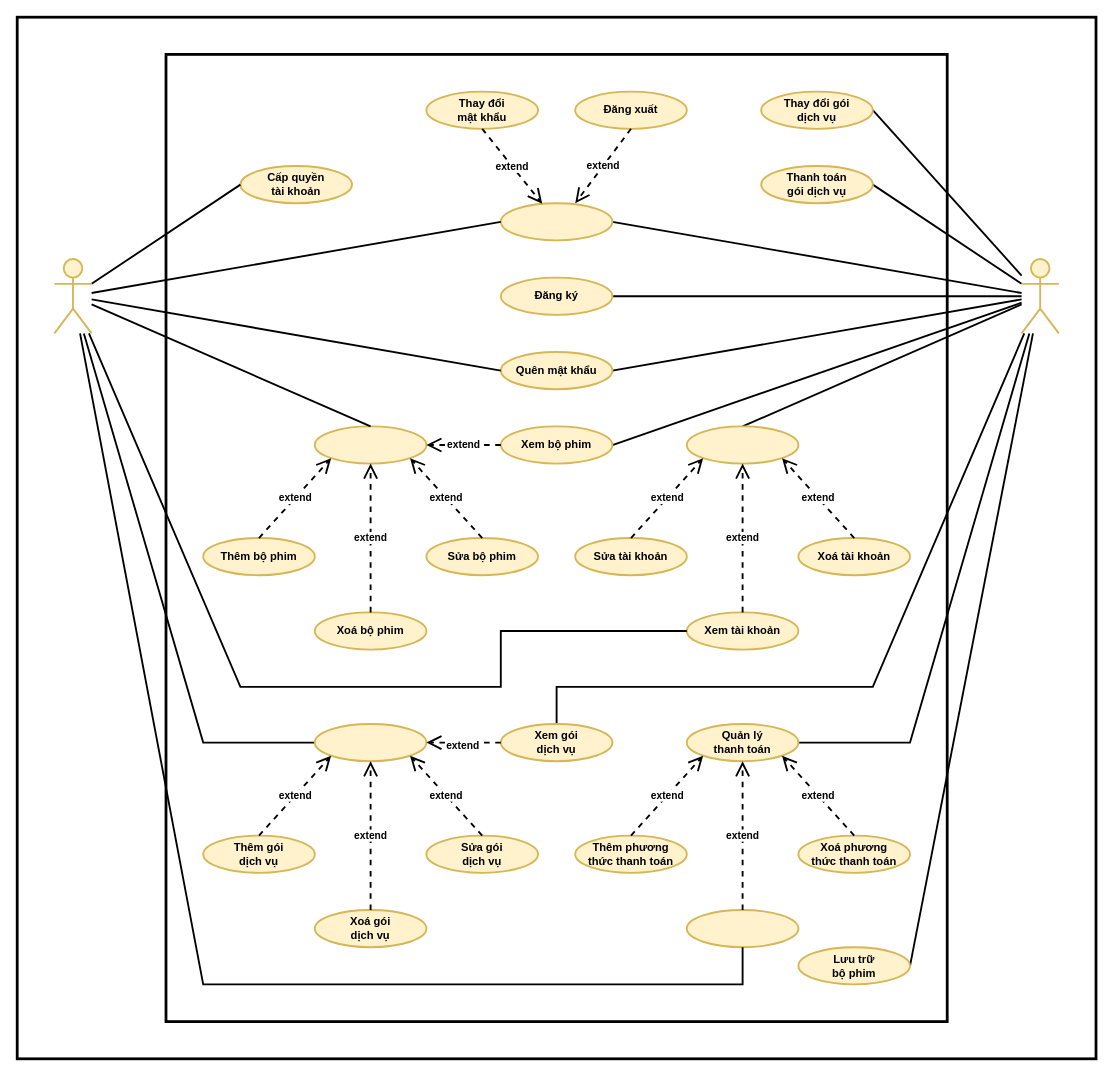
This 1113x1076 diagram has some shape labels left out. The shapes that lost their labels are listed below. From the top down, each one's box as (x1, y1, x2, y2) in pixels, then its label:
(499, 202, 613, 241): Đăng nhập
(53, 258, 92, 334): Admin
(1020, 258, 1059, 334): Người dùng
(313, 425, 427, 464): Quản lý bộ phim
(685, 425, 799, 464): Quản lý tài khoản
(313, 723, 427, 762): Quản lý gói dịch vụ
(685, 909, 799, 948): Xem lịch sử thanh toán
